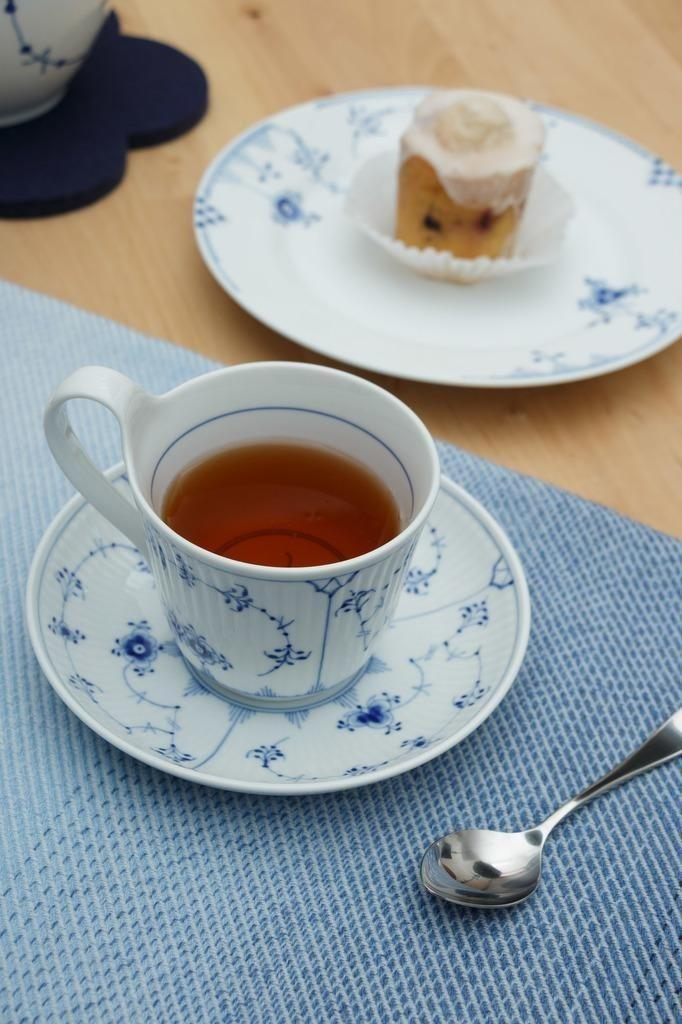cup-handle: (43, 358, 445, 713)
